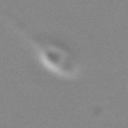normal: (1, 3, 50, 51)
